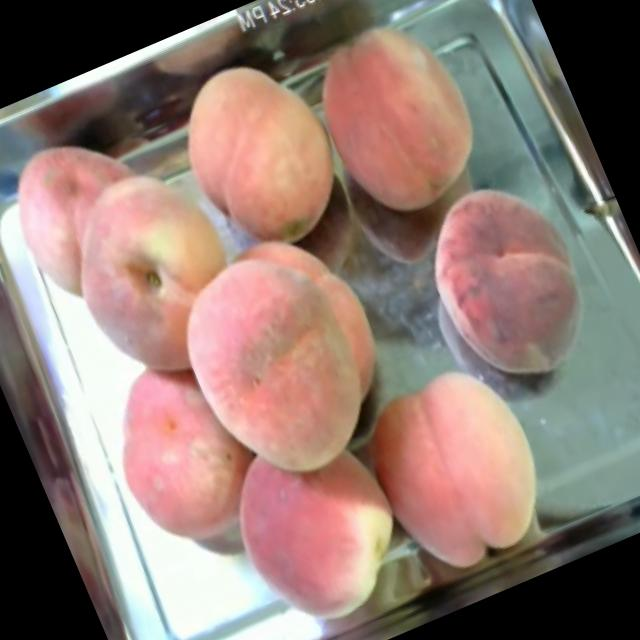Fruit: (0, 80, 283, 420), (137, 198, 433, 515), (386, 146, 628, 415), (332, 336, 578, 600), (142, 30, 368, 283), (199, 404, 433, 640), (283, 0, 509, 240), (70, 330, 286, 572)
